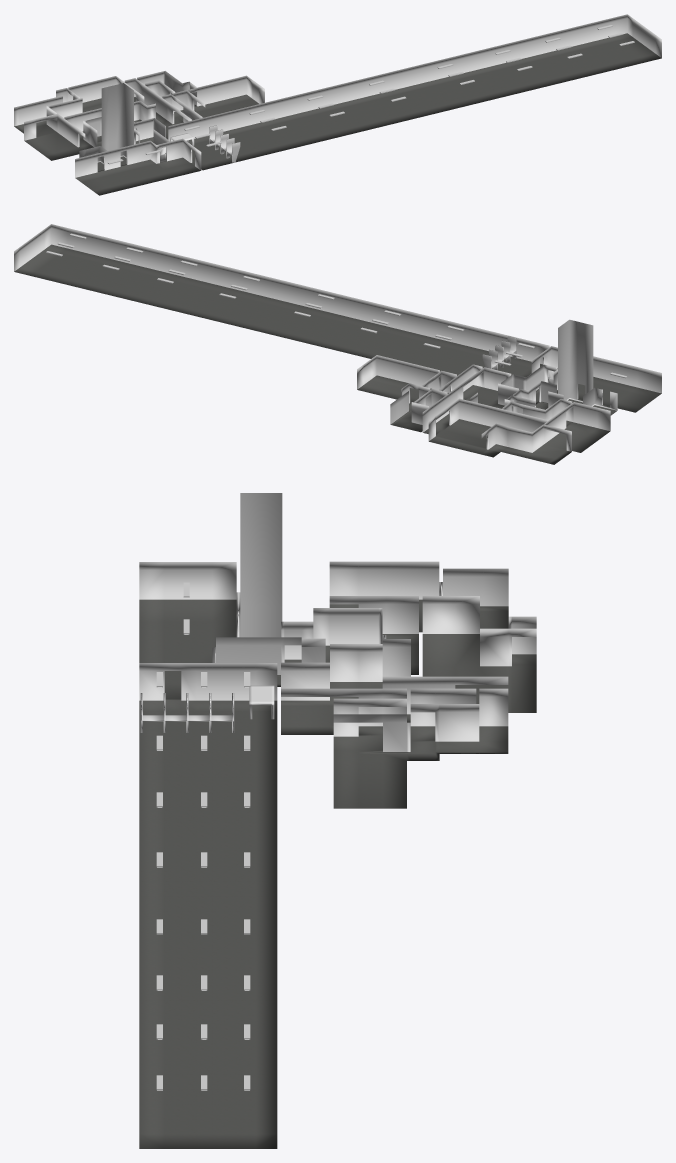
The model's file is Level.glb.
3 views of the same model, one above another, from view 1: azimuth 30°, elevation 25°; view 2: azimuth 150°, elevation 25°; view 3: azimuth 270°, elevation 25° (orthographic). The views are drawn at different scales.
Parts seen in each view (by area): view 1: Level, Cube.002; view 2: Level, Cube.002; view 3: Level, Cube.002.
Part boxes in pixels (<box>): Level: <box>14,14,661,195</box>; Cube.002: <box>209,125,240,162</box>; Level: <box>14,224,661,464</box>; Cube.002: <box>482,336,516,370</box>; Level: <box>139,493,536,1148</box>; Cube.002: <box>140,693,234,732</box>.
Bounding box in the file's own units: 79.81 × 9.92 × 24.38.
3 materials, 1 textured.
